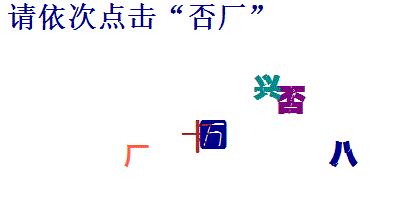text: (181, 119, 213, 155), (274, 84, 307, 116), (328, 139, 359, 169), (198, 118, 227, 150), (252, 73, 281, 101), (123, 144, 151, 167)
